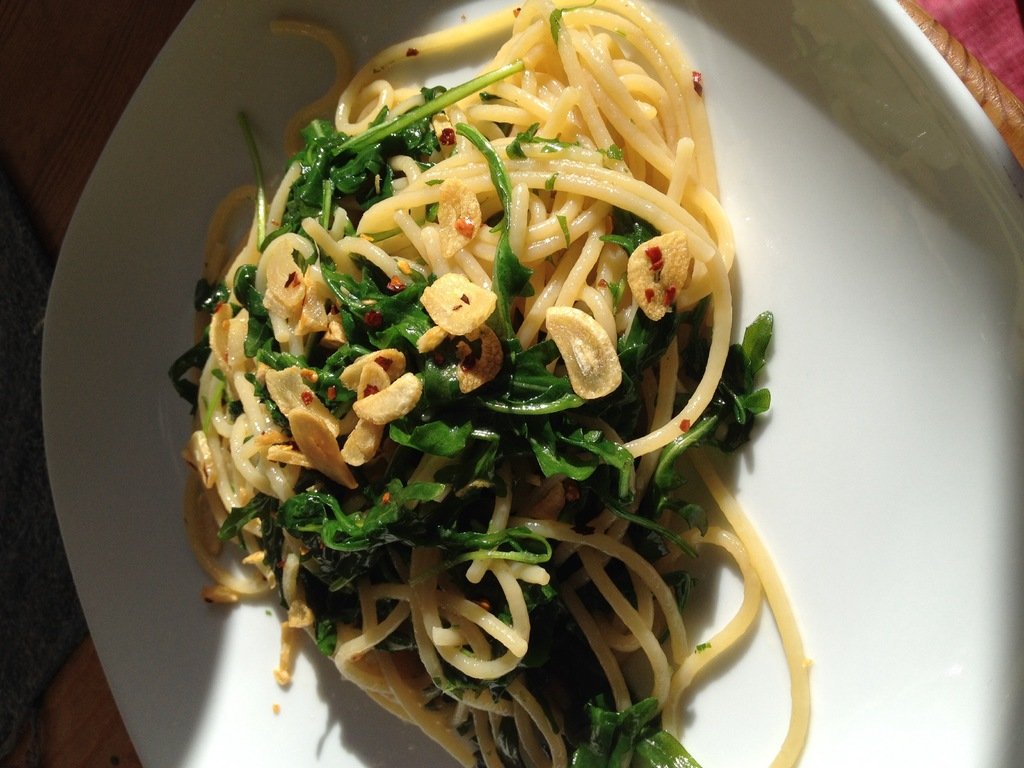pasta: (163, 0, 788, 735)
